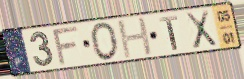3: (29, 30, 55, 69)
F: (51, 24, 81, 68)
H: (116, 15, 155, 61)
O: (89, 21, 121, 62)
T: (157, 15, 179, 52)
X: (184, 8, 219, 51)
